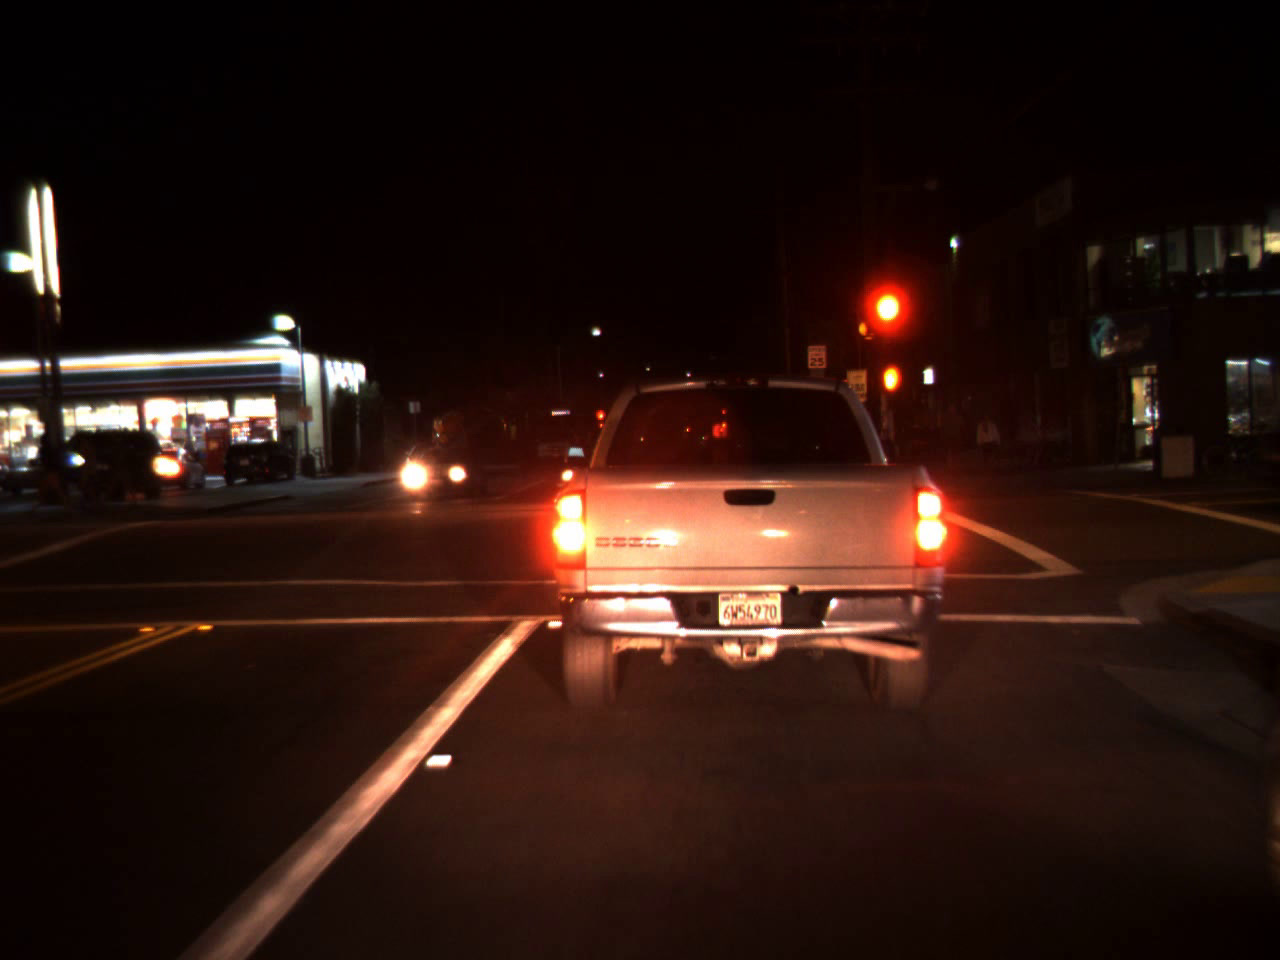stop: (866, 286, 903, 364), (595, 407, 605, 434)
